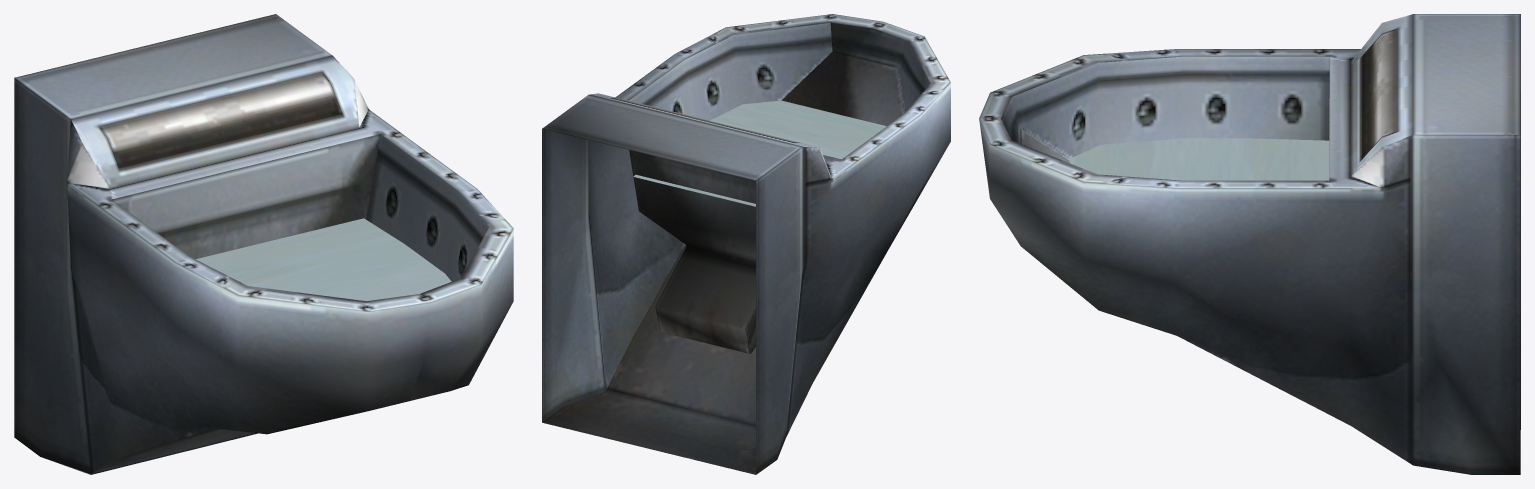
File: toilet1.glb
3 views of the same model, side by side, from view 1: azimuth 30°, elevation 25°; view 2: azimuth 150°, elevation 25°; view 3: azimuth 270°, elevation 25° (orthographic). The views are drawn at different scales.
Visible parts, largest first — view 1: Box01; view 2: Box01; view 3: Box01.
Boxes of the visible parts, x1,y1,x2,y2 form: Box01: (14,14,513,474); Box01: (542,14,950,474); Box01: (979,14,1520,474).
Bounding box in the file's own units: 23.5 × 26.81 × 38.61.
Materials: 1 (1 with a texture image).
